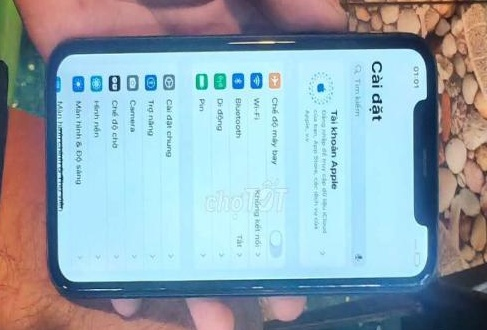scratch: (416, 267, 432, 288)
